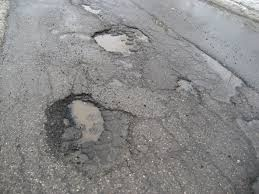pothole: (45, 92, 113, 159), (200, 44, 245, 97), (89, 21, 152, 56), (176, 71, 197, 100)
